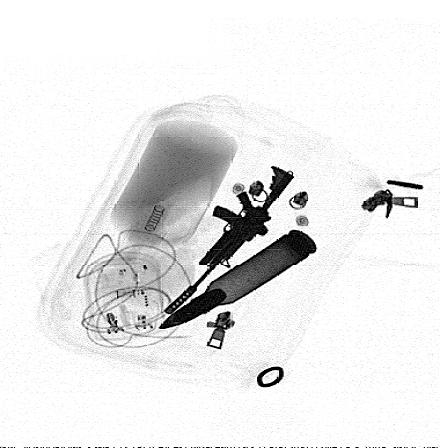Bullet: (155, 229, 318, 329)
Gun: (164, 163, 297, 313)
